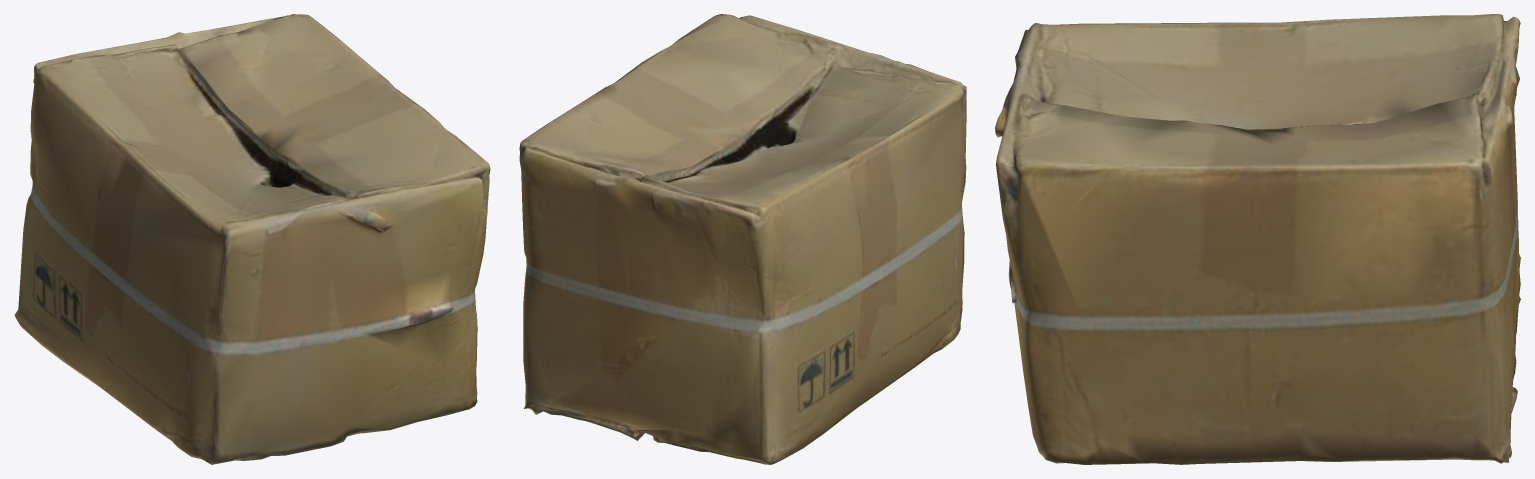
Rendered from cardboard_box_01.glb.
3 views of the same model, side by side, from view 1: azimuth 30°, elevation 25°; view 2: azimuth 150°, elevation 25°; view 3: azimuth 270°, elevation 25° (orthographic). The views are drawn at different scales.
Visible parts, largest first — view 1: cardboard_box_01; view 2: cardboard_box_01; view 3: cardboard_box_01.
Part boxes in pixels (x1=…): cardboard_box_01: x1=14, y1=14, x2=490, y2=464; cardboard_box_01: x1=519, y1=14, x2=966, y2=464; cardboard_box_01: x1=995, y1=14, x2=1520, y2=464.
Size of the model in its own units: 0.3867 by 0.3418 by 0.5159.
1 material, 1 textured.
